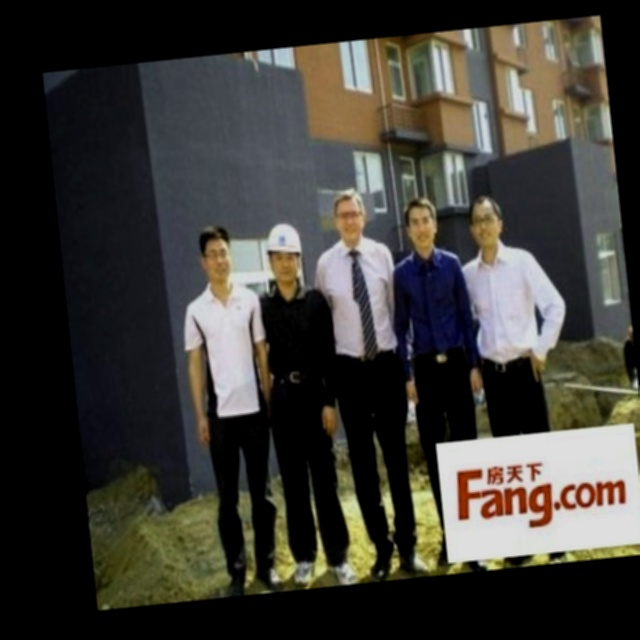Con_Casco: (262, 221, 306, 287)
Sin_Casco_Mascarrilla: (195, 223, 236, 286), (401, 197, 441, 253)
Sin_Chaleco: (186, 283, 275, 428), (316, 236, 403, 357)
